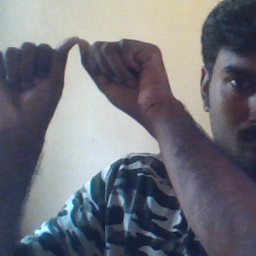A: (6, 25, 152, 119)
